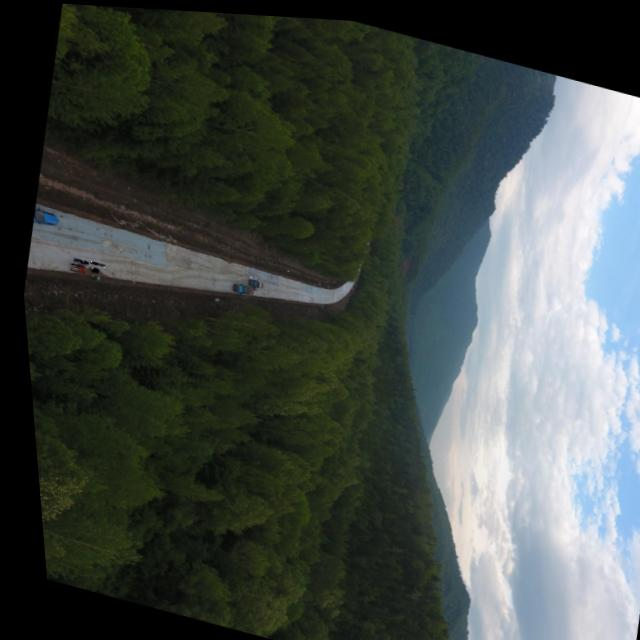Person: (67, 256, 83, 265), (65, 263, 82, 271), (64, 266, 78, 273), (64, 261, 80, 267), (85, 260, 99, 266), (85, 266, 94, 273), (244, 272, 251, 276)
